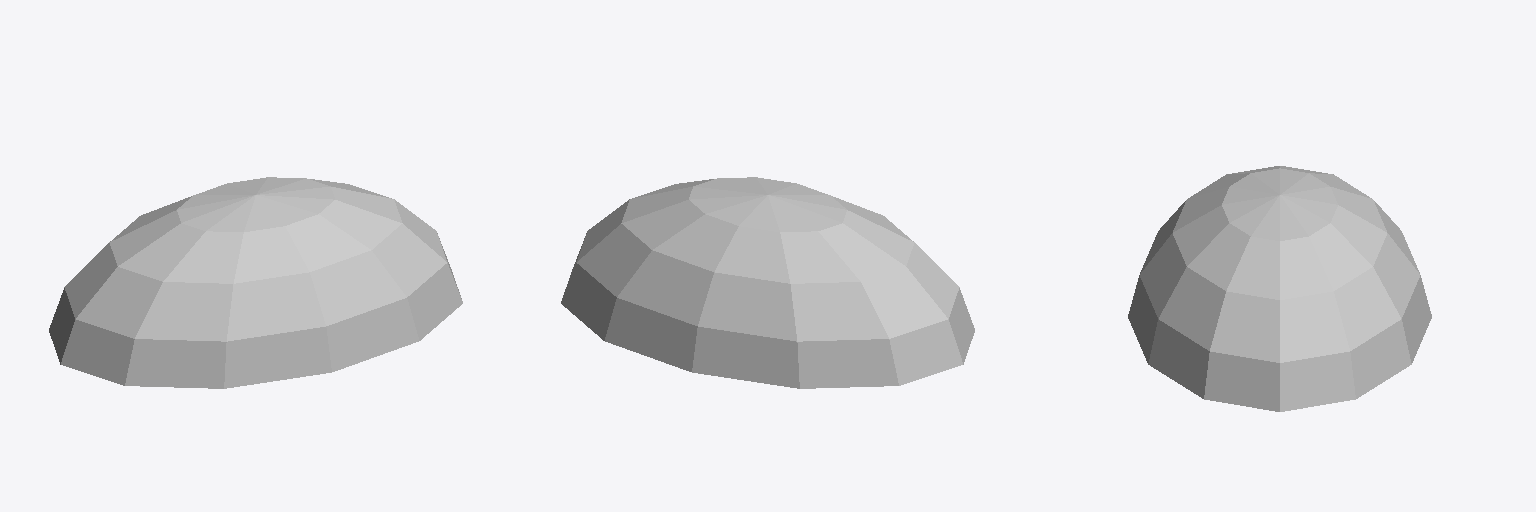
The model's file is dummyhand.obj.
3 renders of one model, left to right at view 1: azimuth 30°, elevation 25°; view 2: azimuth 150°, elevation 25°; view 3: azimuth 270°, elevation 25°, orthographic.
Visible parts, largest first — view 1: dummy_hips3_dummy_belly_dummy_torso_dummy_lshoulder_dummy_l.007; view 2: dummy_hips3_dummy_belly_dummy_torso_dummy_lshoulder_dummy_l.007; view 3: dummy_hips3_dummy_belly_dummy_torso_dummy_lshoulder_dummy_l.007.
Boxes of the visible parts, x1,y1,x2,y2 form: dummy_hips3_dummy_belly_dummy_torso_dummy_lshoulder_dummy_l.007: [49, 177, 462, 388]; dummy_hips3_dummy_belly_dummy_torso_dummy_lshoulder_dummy_l.007: [561, 177, 974, 388]; dummy_hips3_dummy_belly_dummy_torso_dummy_lshoulder_dummy_l.007: [1128, 166, 1431, 411].
Size of the model in its own units: 14.72 by 4.39 by 9.93.